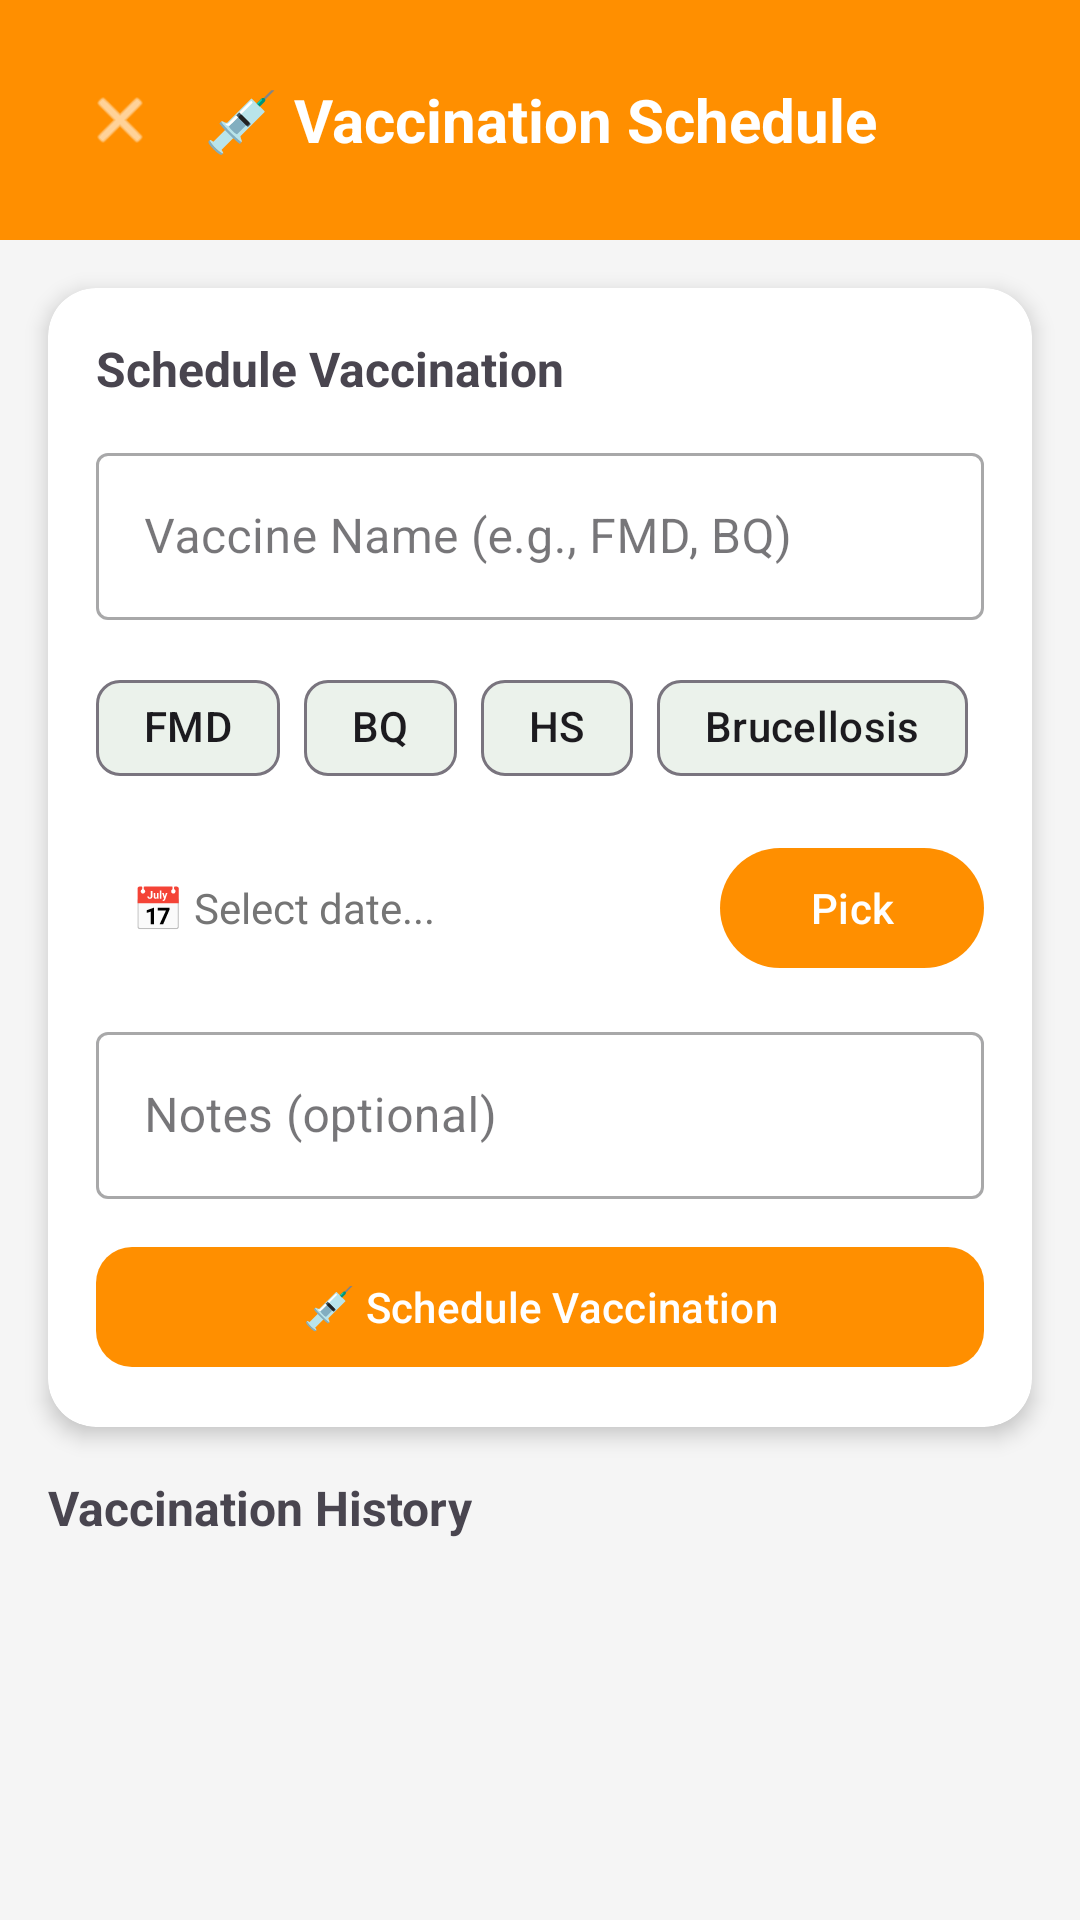

Locate icon controls on the screen. Image size 1080x1920, boxes as (x1, y1, x2, y2).
close clear cancel: (97, 97, 143, 143)
